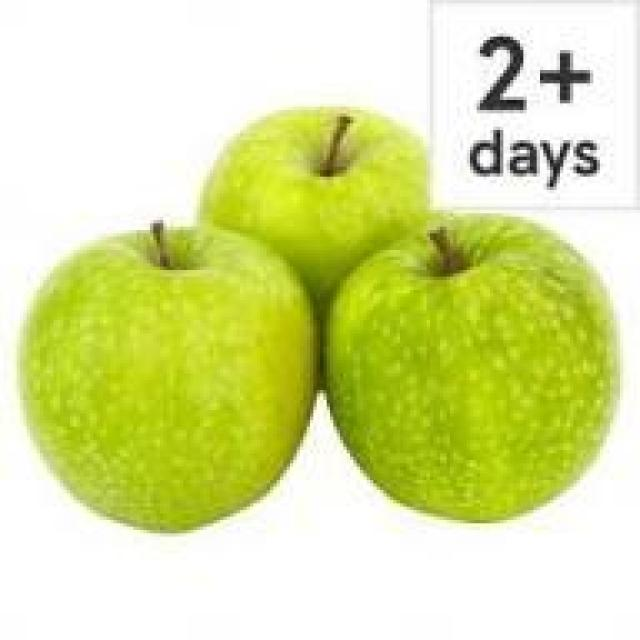apple: (320, 213, 627, 540), (10, 246, 340, 536), (183, 87, 457, 283)
